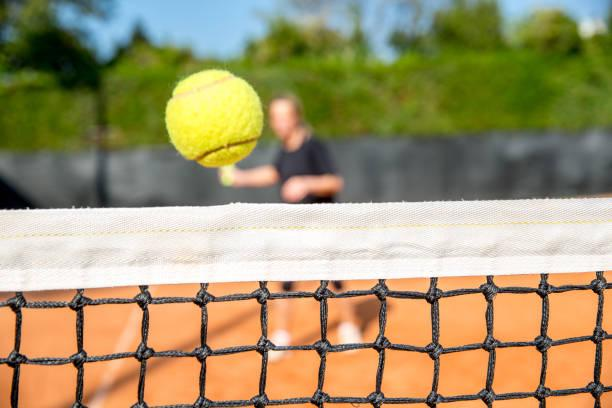ball_tennis: (166, 68, 263, 167)
